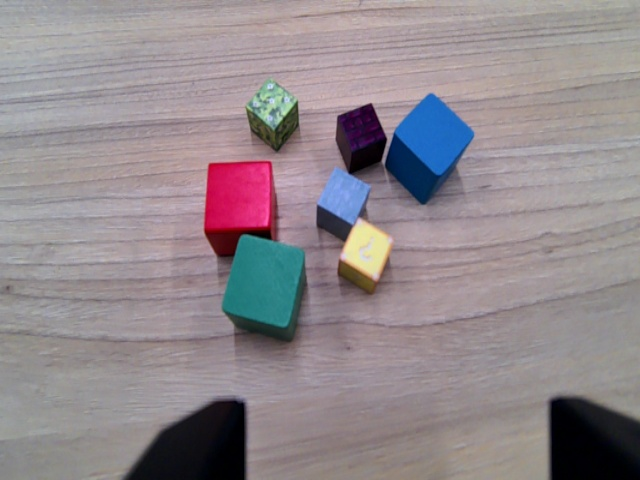brick: (334, 103, 383, 173)
grass: (245, 78, 298, 147)
lucky: (345, 218, 395, 287)
stone: (321, 165, 368, 223)
